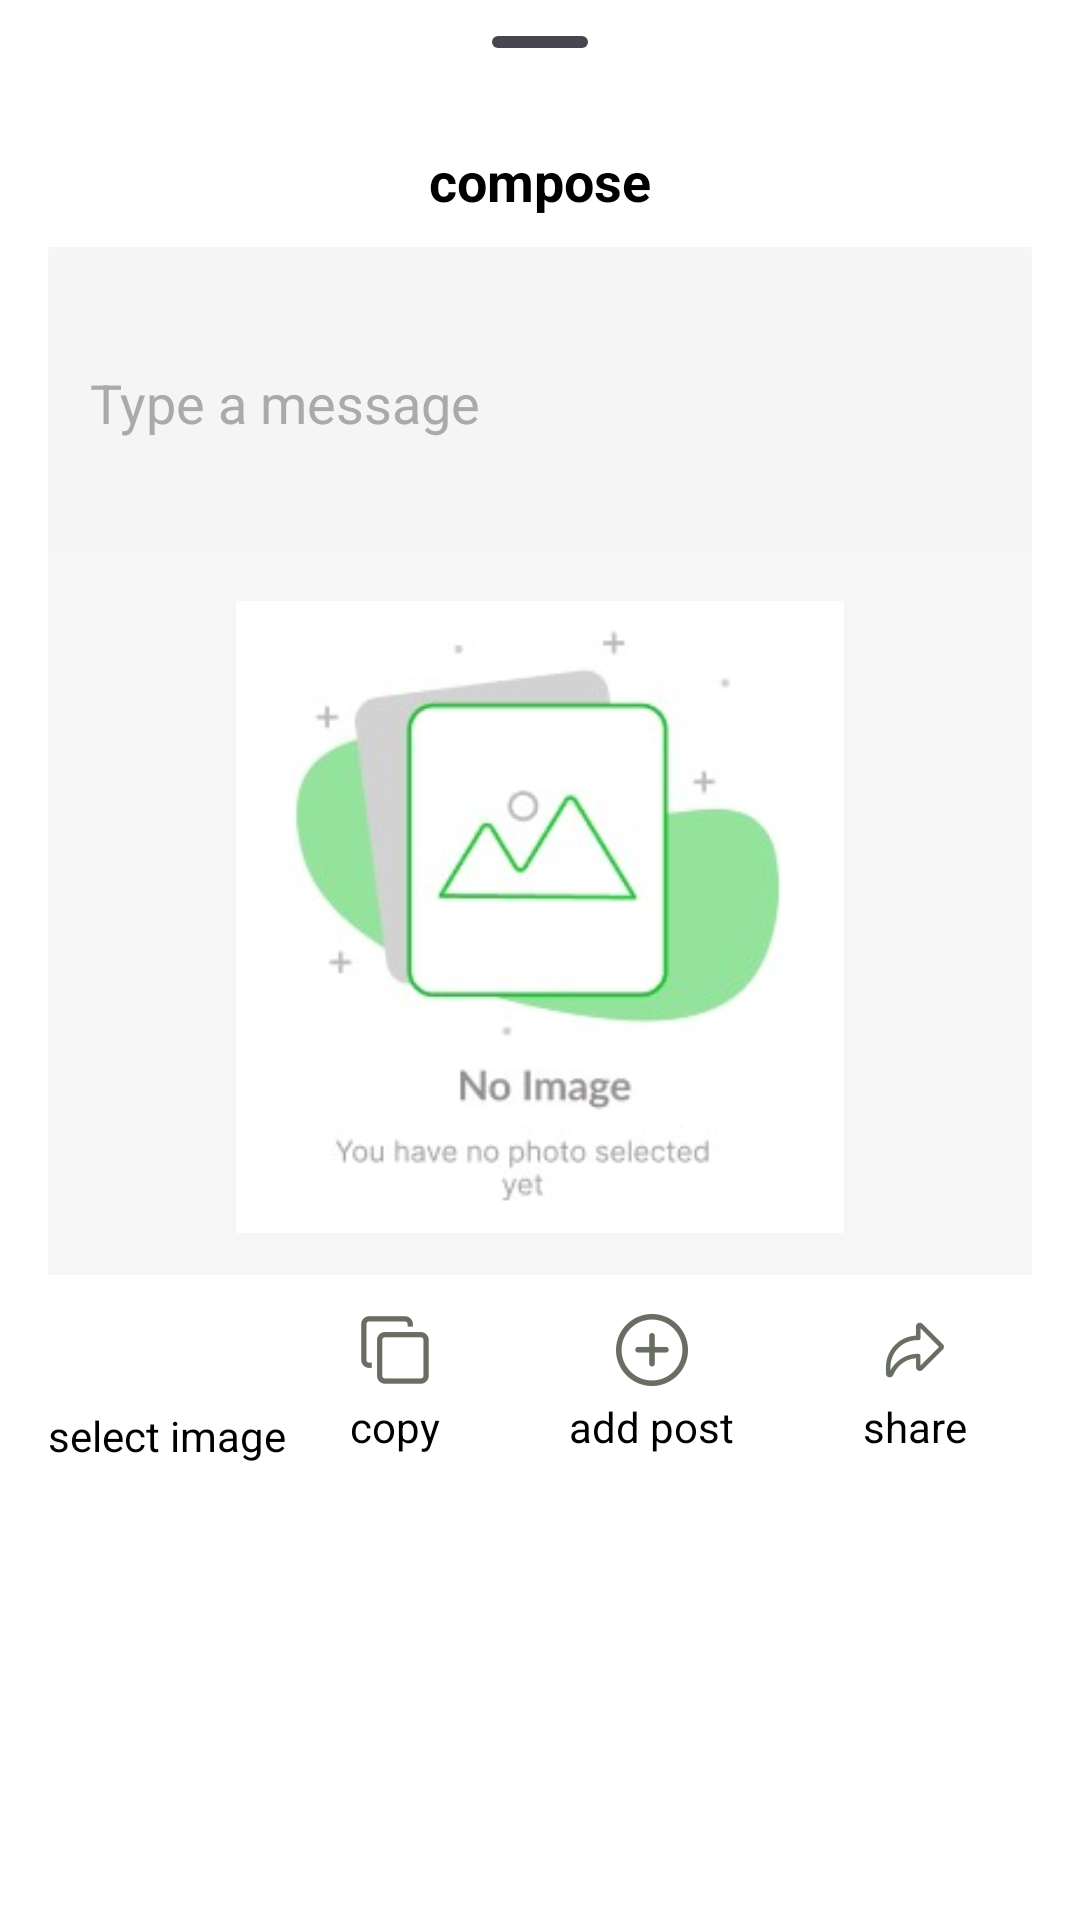

Icons on this 1080×1920 Android screen, each with its box as (x1, y1, x2, y2):
plus: (616, 1314, 688, 1386)
